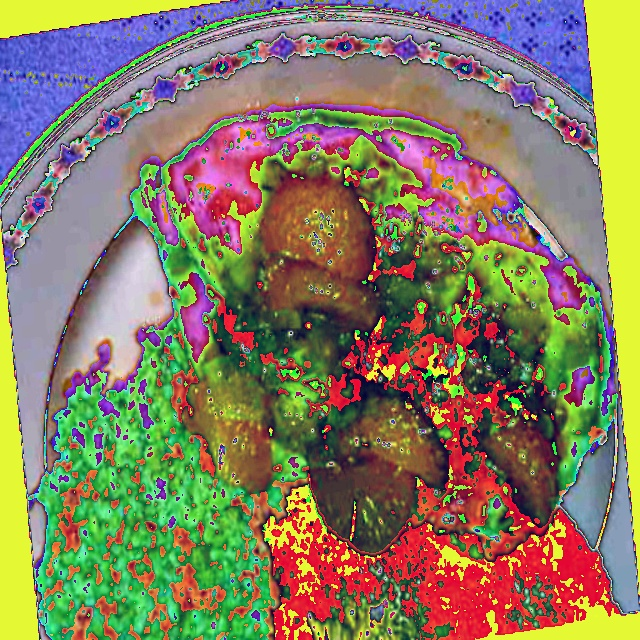background: (28, 114, 622, 639)
